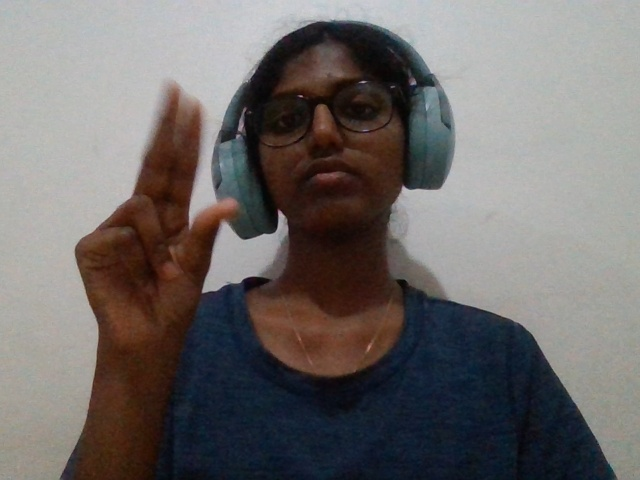No: (30, 78, 264, 402)
